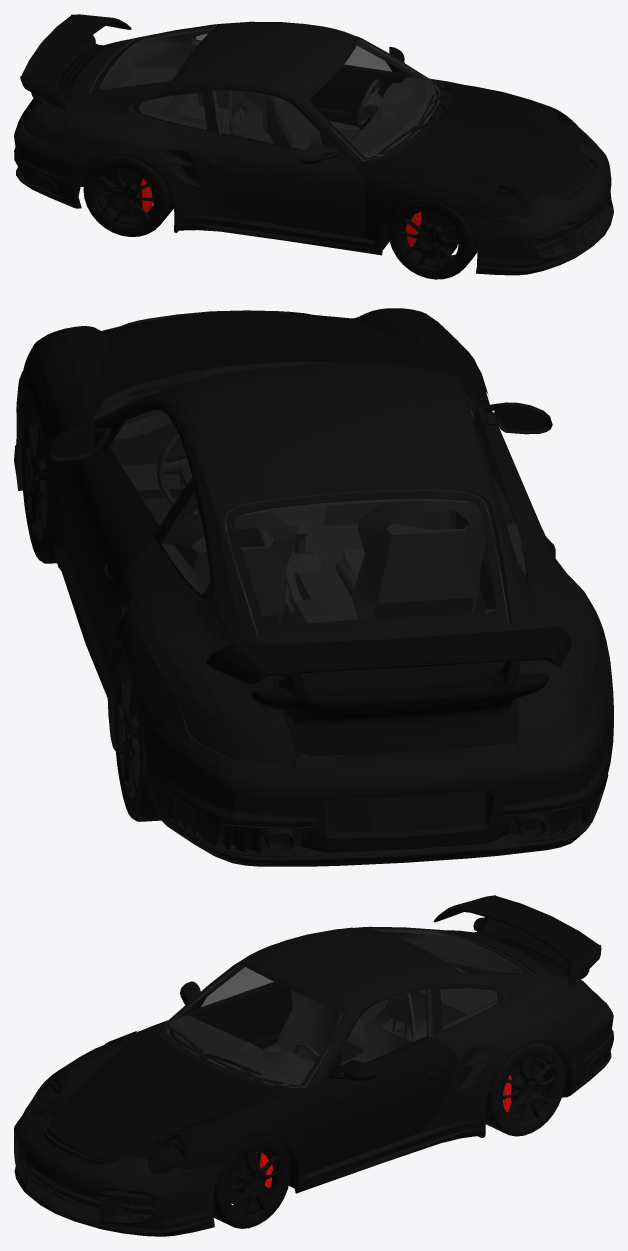
The model's file is asset.glb.
The picture shows the model from 3 angles, top to bottom: view 1: azimuth 30°, elevation 25°; view 2: azimuth 150°, elevation 25°; view 3: azimuth 270°, elevation 25°; orthographic projection. The views are drawn at different scales.
Visible parts, largest first — view 1: part 031, part 003, part 011, part 013, part 033, part 015, part 014, part 028, part 027, part 002, part 001, part 012; view 2: part 031, part 013, part 003, part 011, part 002, part 015, part 012, part 014, part 033, part 025, part 026, part 000; view 3: part 031, part 003, part 013, part 011, part 015, part 012, part 014, part 002, part 025, part 026, part 000, part 033.
Boxes of the visible parts, x1,y1,x2,y2 form: part 031: [23, 21, 451, 220]; part 003: [90, 26, 586, 239]; part 011: [90, 25, 440, 160]; part 013: [14, 98, 613, 275]; part 033: [201, 131, 365, 238]; part 015: [385, 84, 587, 196]; part 014: [351, 78, 588, 249]; part 028: [83, 155, 173, 236]; part 027: [388, 199, 477, 279]; part 002: [20, 14, 131, 112]; part 001: [172, 193, 382, 255]; part 012: [310, 46, 413, 129]; part 031: [93, 361, 609, 766]; part 013: [14, 310, 613, 866]; part 003: [108, 388, 527, 638]; part 011: [100, 392, 525, 755]; part 002: [206, 626, 571, 755]; part 015: [98, 311, 440, 398]; part 012: [47, 418, 163, 653]; part 014: [21, 308, 492, 552]; part 033: [455, 398, 555, 608]; part 025: [114, 653, 160, 821]; part 026: [21, 396, 56, 563]; part 000: [53, 541, 115, 750]; part 031: [156, 926, 601, 1103]; part 003: [15, 929, 533, 1202]; part 013: [14, 992, 613, 1236]; part 011: [165, 929, 540, 1087]; part 015: [49, 1028, 282, 1158]; part 012: [311, 1036, 457, 1171]; part 014: [30, 1020, 317, 1188]; part 002: [433, 895, 601, 986]; part 025: [485, 1042, 565, 1136]; part 026: [213, 1136, 290, 1228]; part 000: [294, 1095, 487, 1193]; part 033: [180, 981, 292, 1048].
Bounding box in the file's own units: 0.4584 × 0.159 × 0.497.
8 materials, 1 textured.
